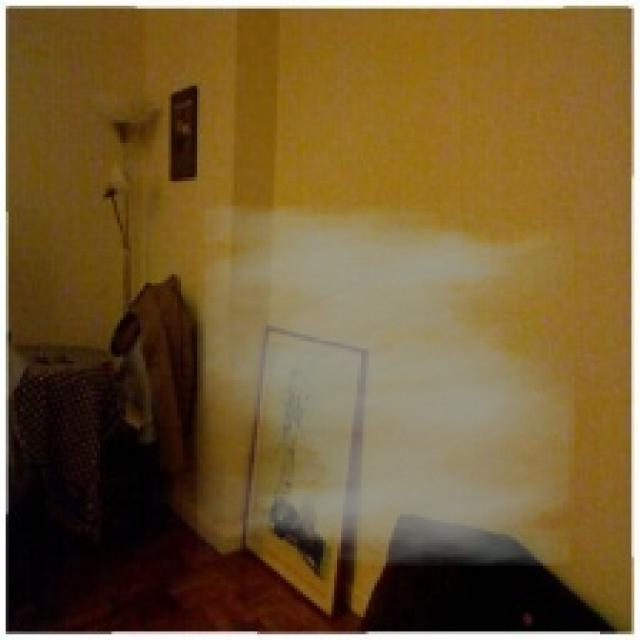Smoke: (197, 205, 574, 566)
